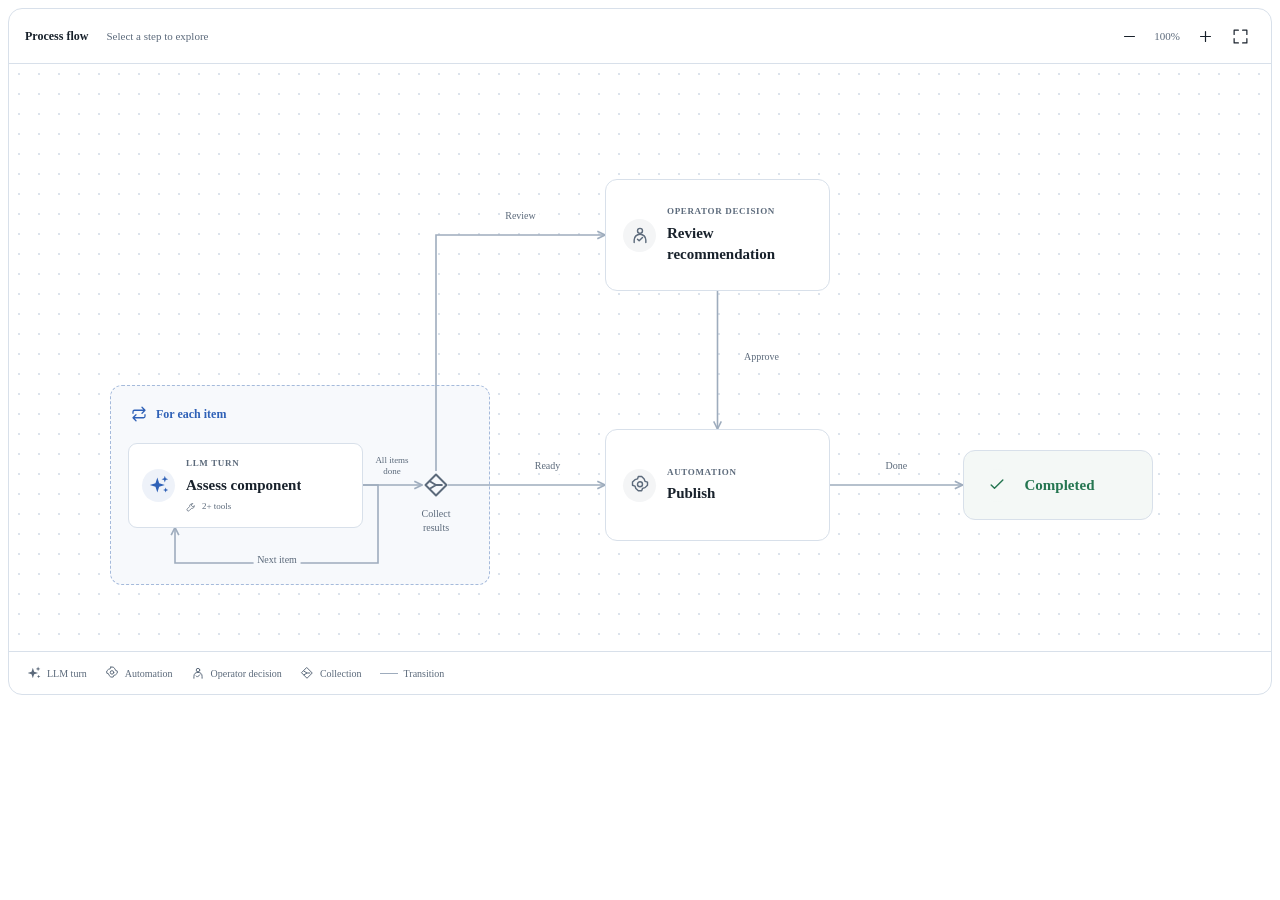
Test: shared workflow graph integration › retains selection when moving from enclosure to activity and restores exact keyboard focus
Click the button "For each item" at (191, 414), box [110,385,490,585]
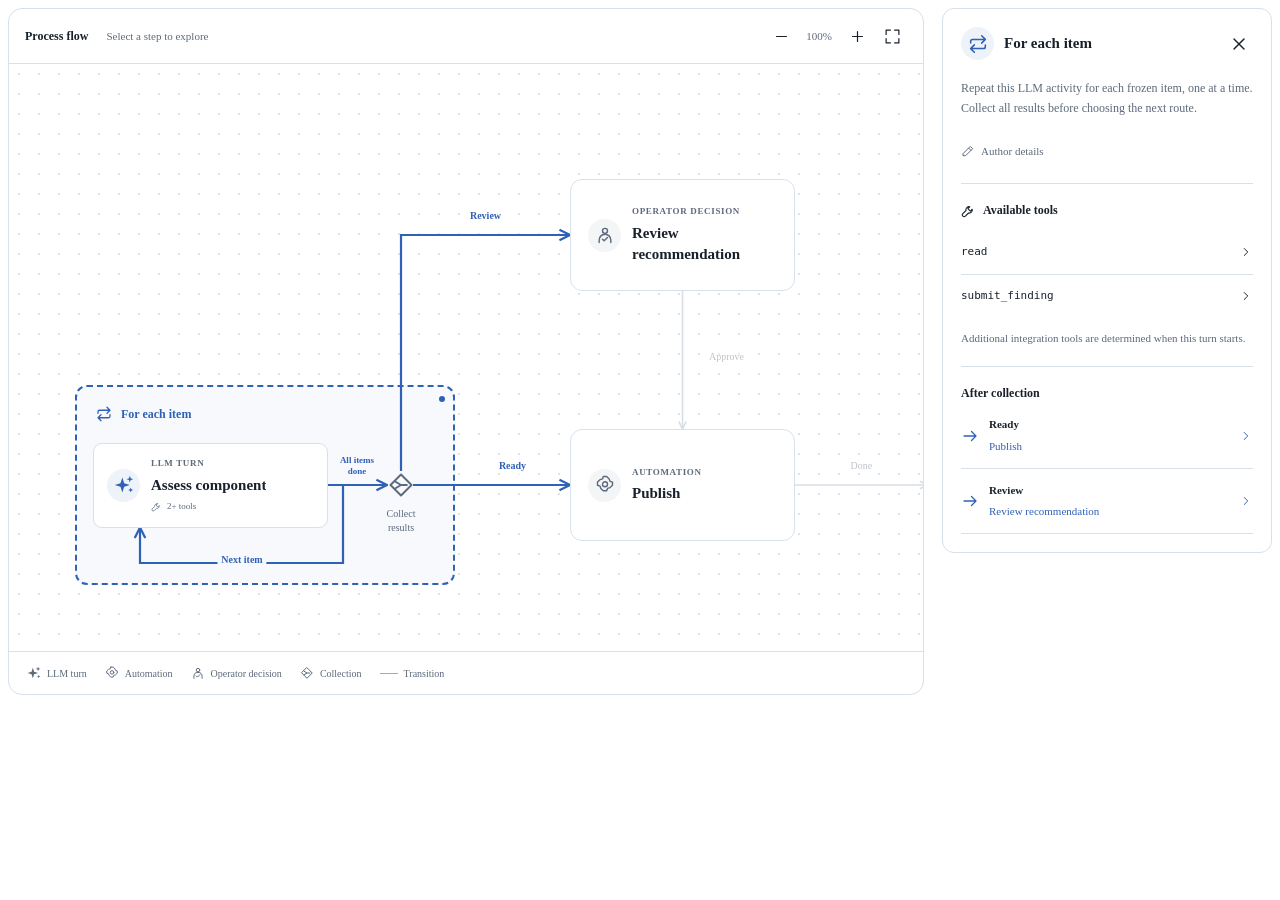
Click the button "LLM turn Assess component 2+ tools" at (210, 485), box [93,442,328,528]
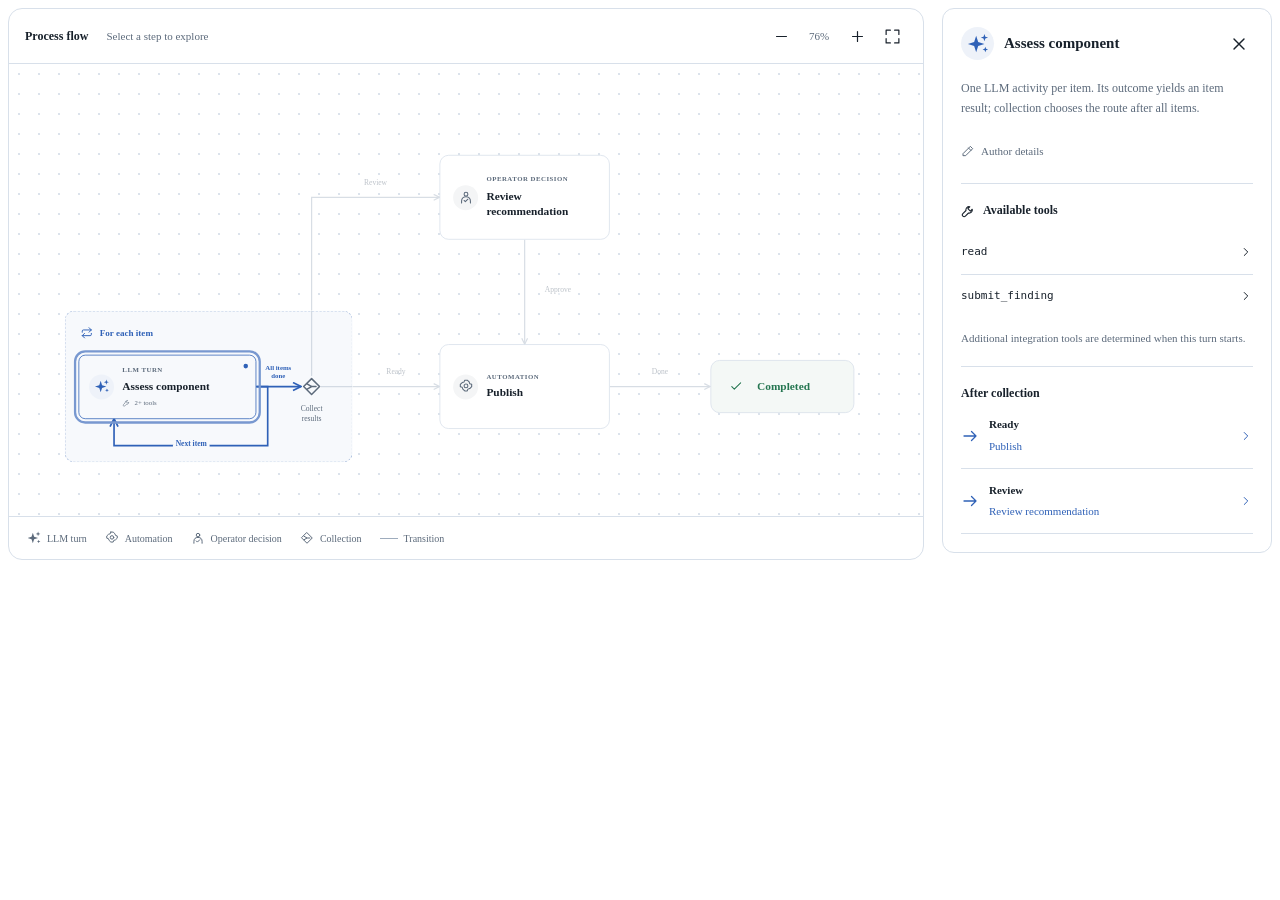
Expected: the element with class "step-inspector" is shown, [942,8,1272,553]
Press Escape in the button "LLM turn Assess component 2+ tools", box [78,354,256,419]
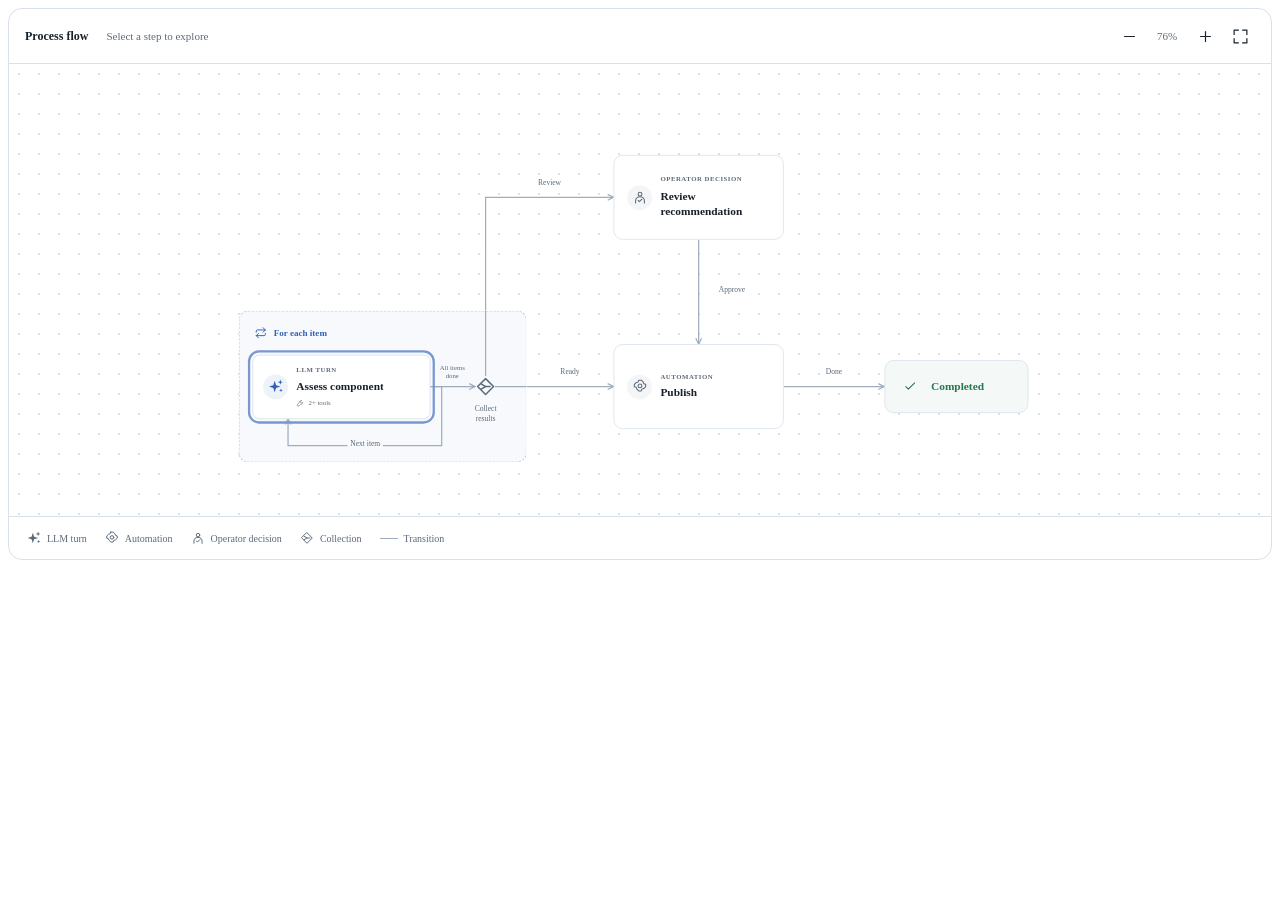
Expected: the element with class "step-inspector" is gone
